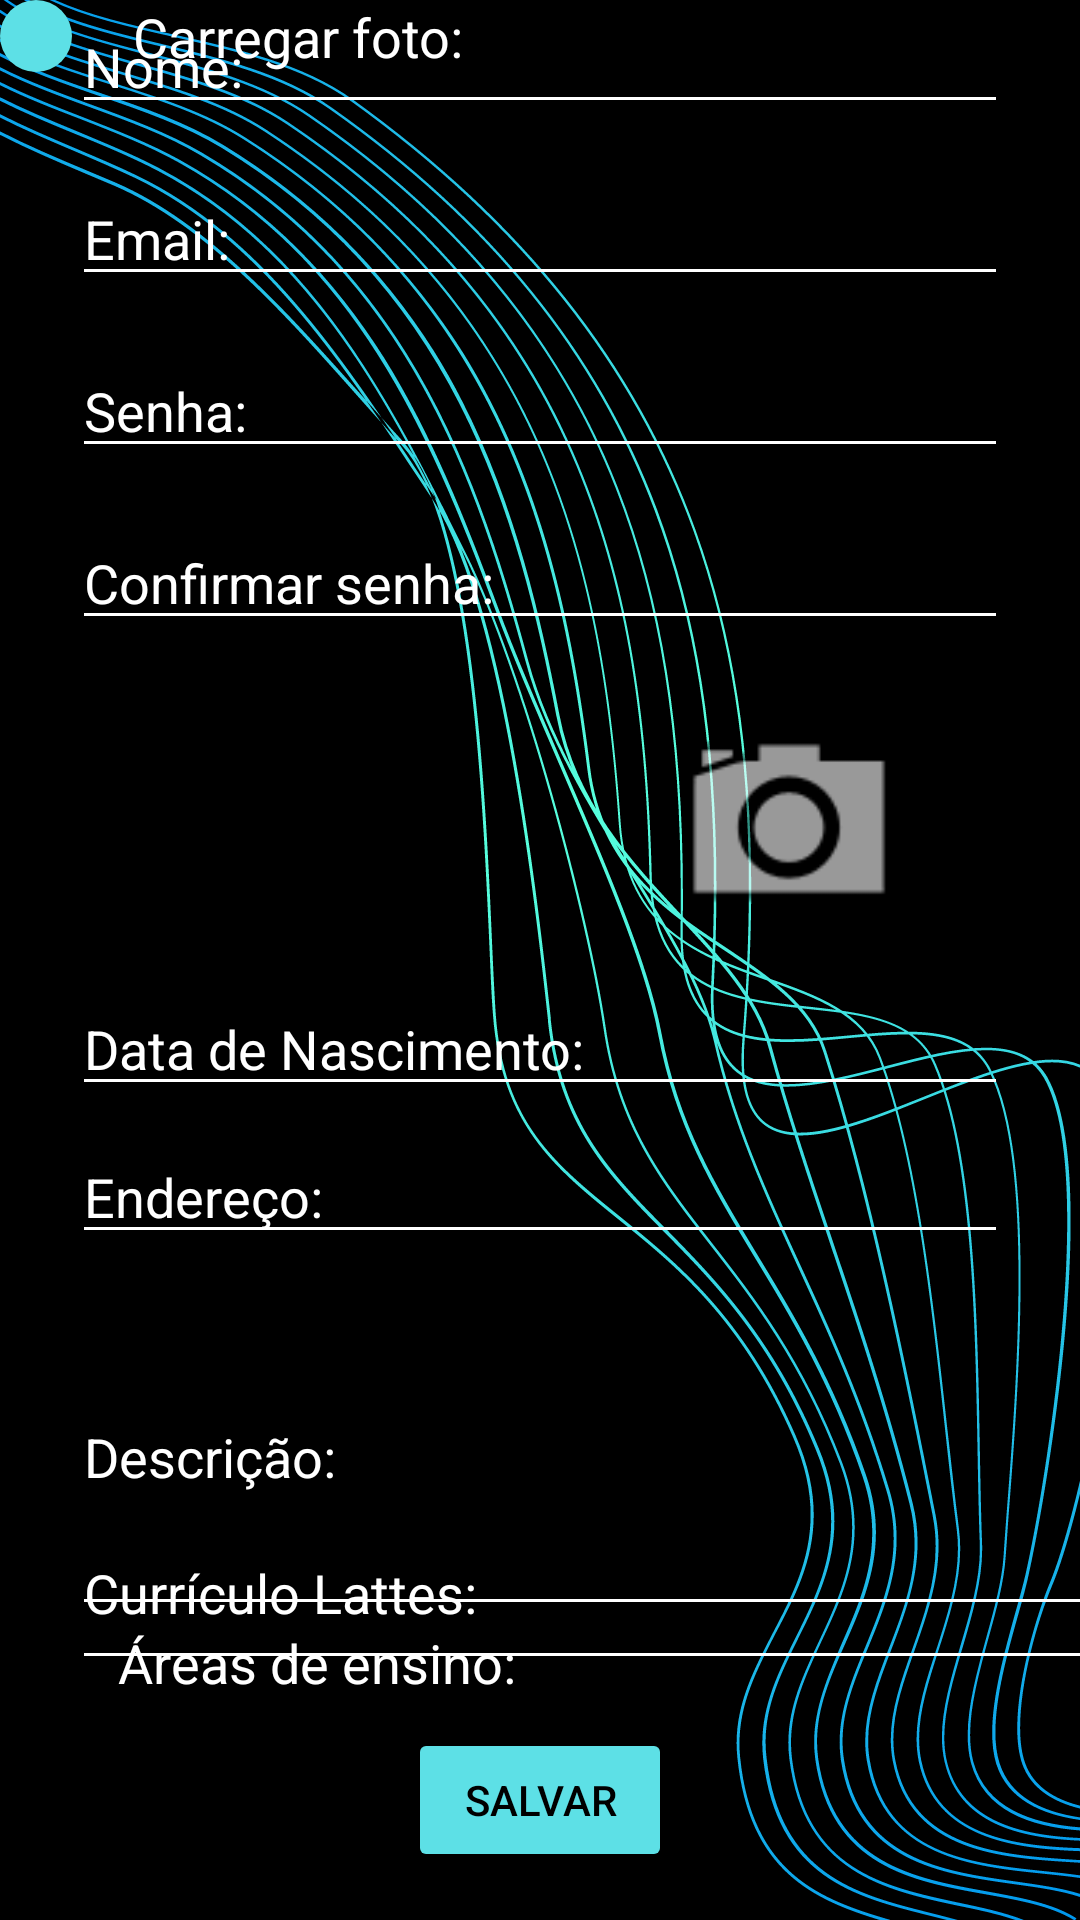

Icon bounding boxes for this 1080px×1920px phone screenshot, format bbox=(x1, y1, x2, y2):
camera: bbox=(594, 688, 885, 958)
